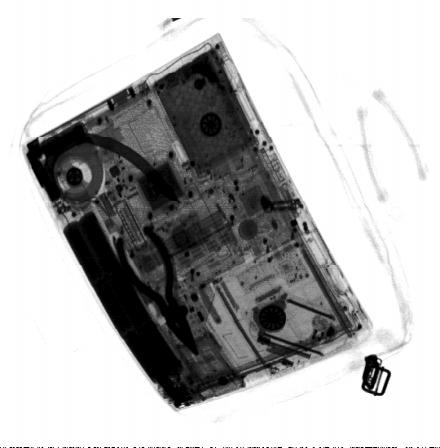Pliers: (115, 224, 201, 357)
